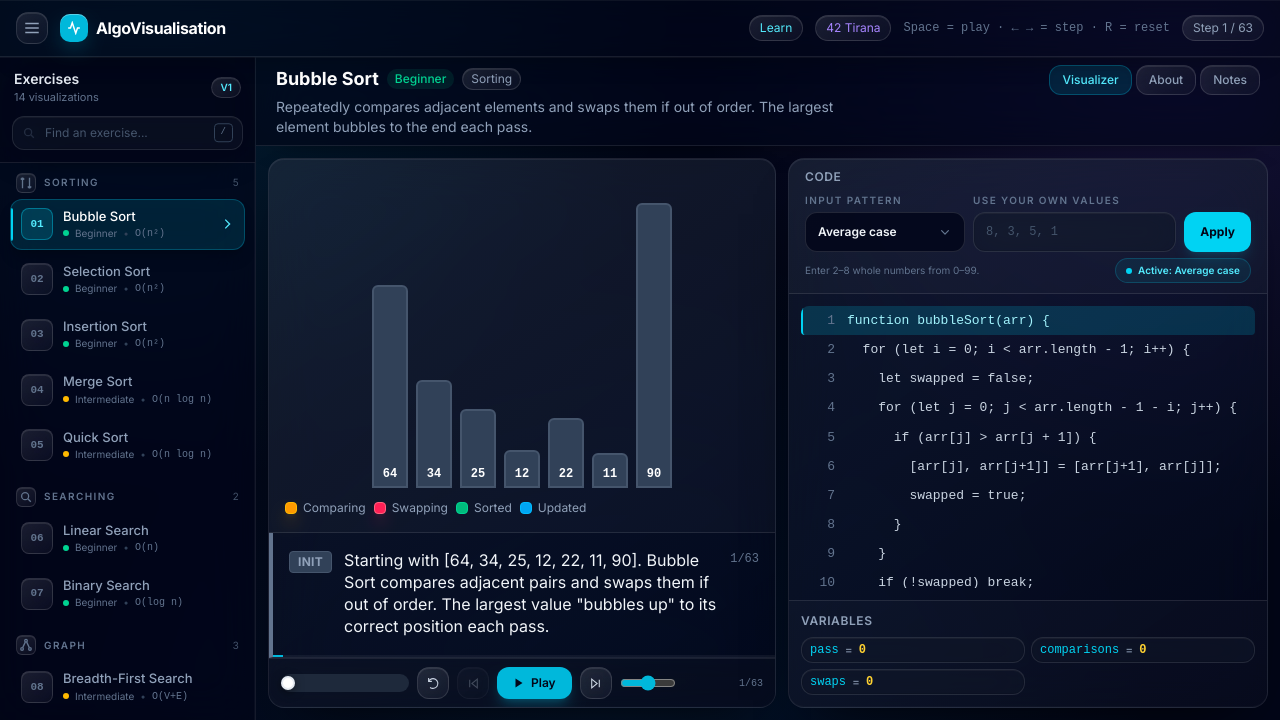
Test: V1 interaction components › regenerates and pauses Bubble Sort when custom input is applied
The width and height of the screenshot is (1280, 720).
Click the button with aria-label "Play animation" at (534,683), box [497,667,572,699]
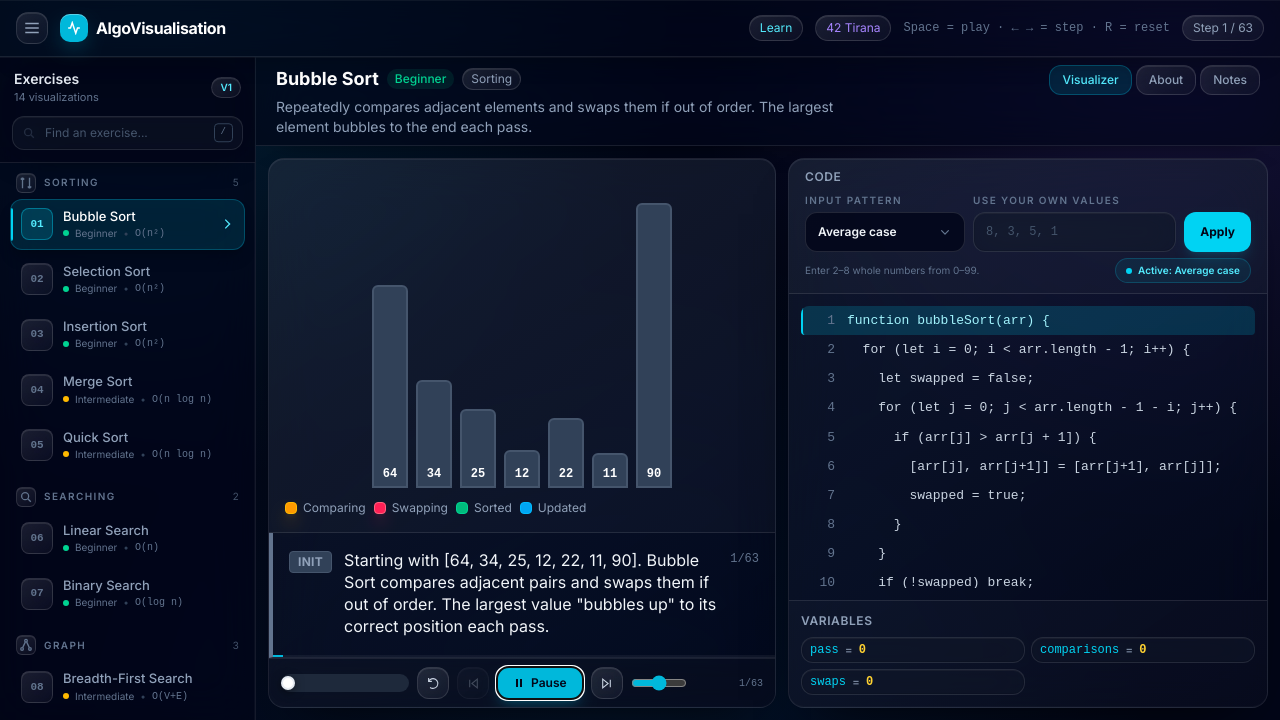
Result: the button with aria-label "Pause animation" is shown at [497,667,583,699]
Type "9, 3, 9, 1" into the field named "Custom Bubble Sort array" at (1075,232), box [973,212,1176,252]
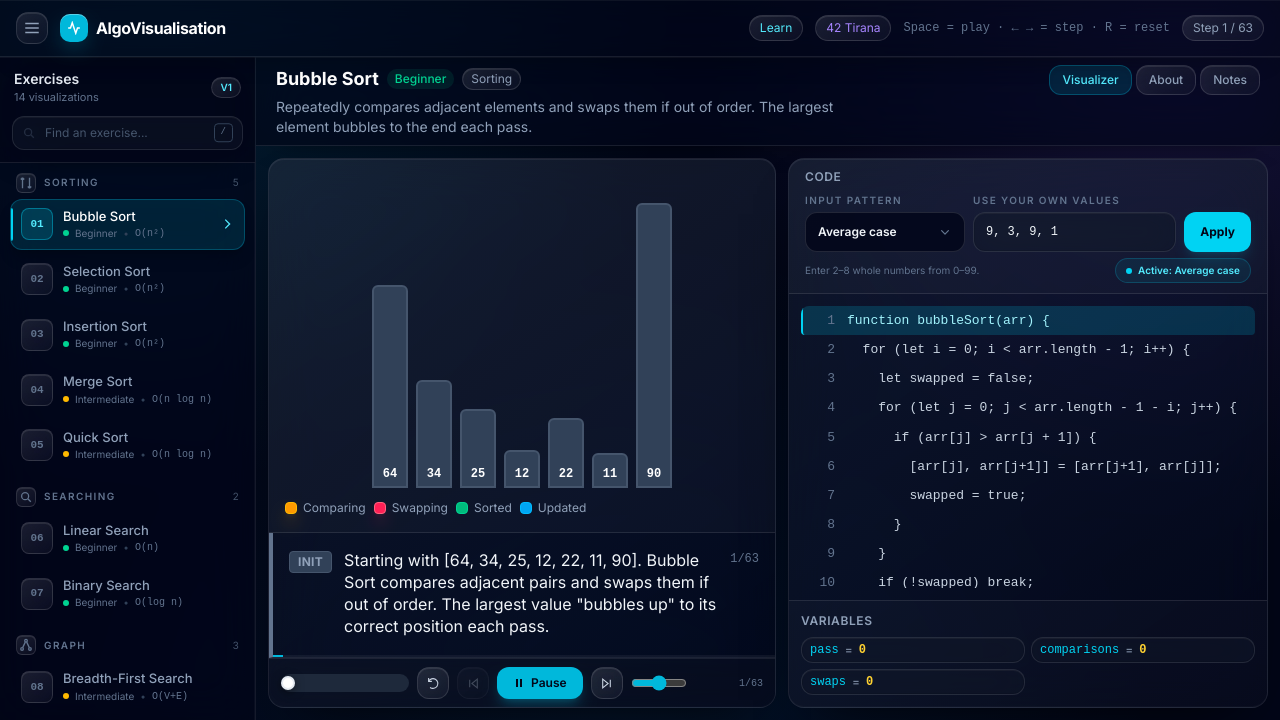
Click the button "Apply" at (1218,232), box [1184,212,1251,252]
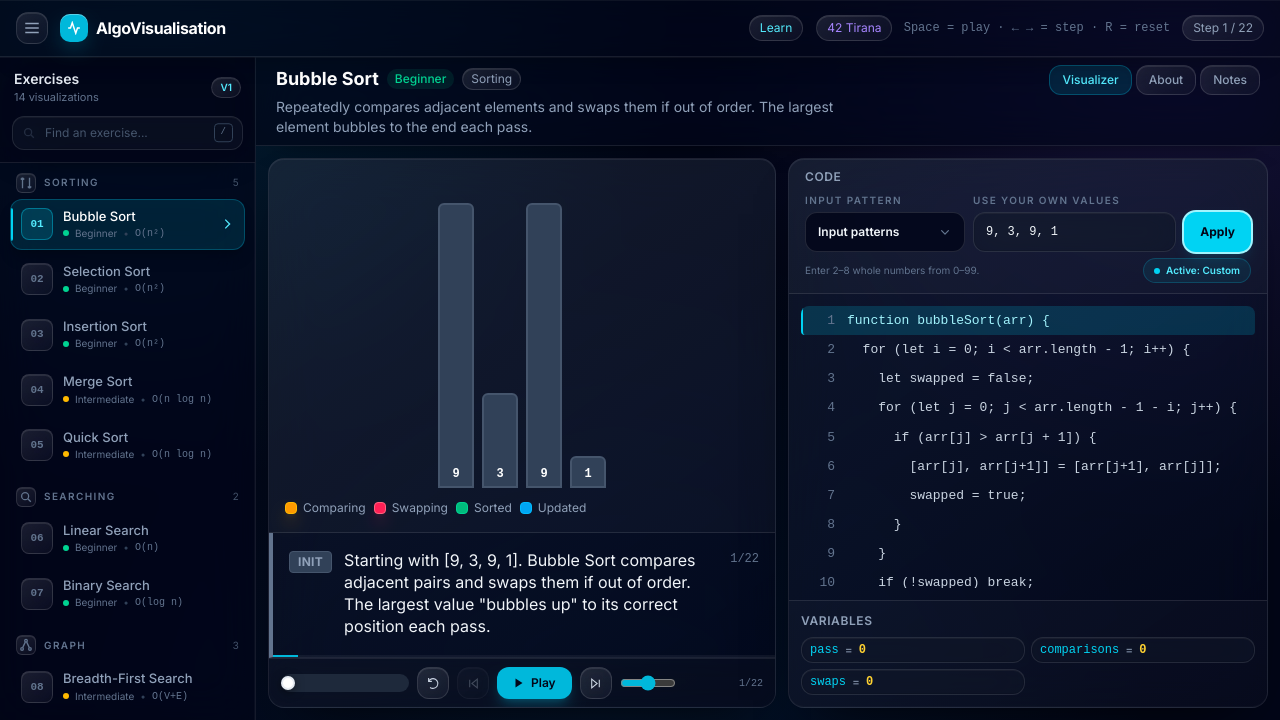
Result: the text "Active: Custom" is shown at [1143,258,1251,283]
Result: the button with aria-label "Play animation" is shown at [497,667,572,699]
Result: the text "Starting with [9, 3, 9, 1]" is shown at [344,550,696,636]
